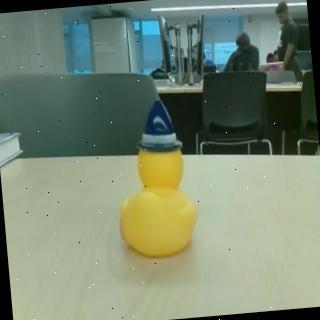duck_specialty: (108, 96, 204, 262)
